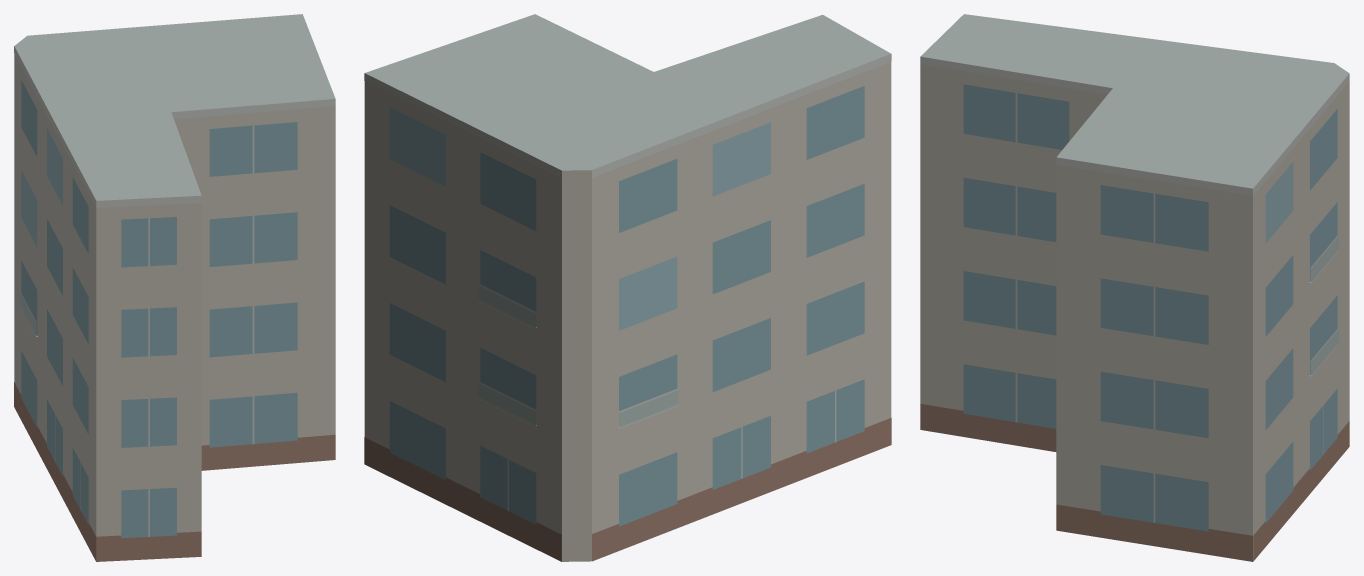
Rendered from survey-upis-32511995.glb.
The picture shows the model from 3 angles, left to right: view 1: azimuth 30°, elevation 25°; view 2: azimuth 150°, elevation 25°; view 3: azimuth 270°, elevation 25°; orthographic projection. The views are drawn at different scales.
Parts seen in each view (by area): view 1: survey-upis-32511995.tmp; view 2: survey-upis-32511995.tmp; view 3: survey-upis-32511995.tmp.
Boxes of the visible parts, x1,y1,x2,y2 form: survey-upis-32511995.tmp: (14,14,335,561); survey-upis-32511995.tmp: (364,14,891,561); survey-upis-32511995.tmp: (920,14,1349,561).
Bounding box in the file's own units: 12.25 × 12.2 × 12.73.
